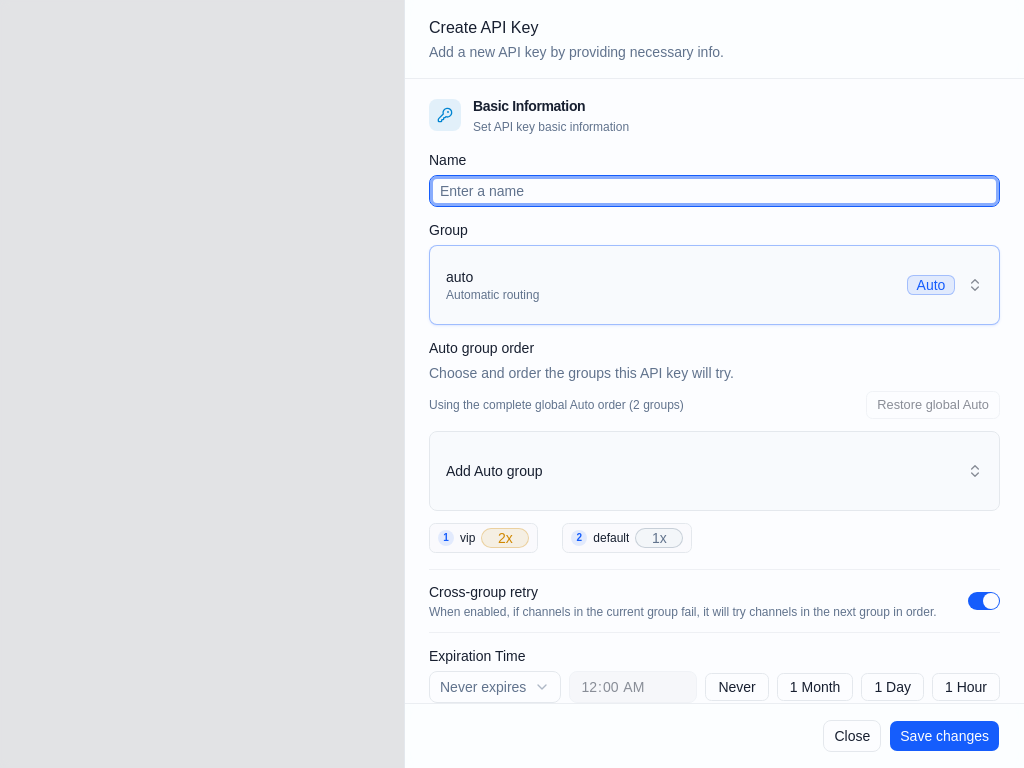
Scenario: API keys mutate drawer Auto group integration › inherits the root Auto order and sends an empty override for every batch-created key
Check: the button "Save changes" is enabled, box [889,720,1000,752]
Check: the button "Restore global Auto" is disabled, box [866,391,1000,419]
Type "batch" into the field labelled "Name" at (714, 191), box [429,175,1000,207]
(page scrolled)
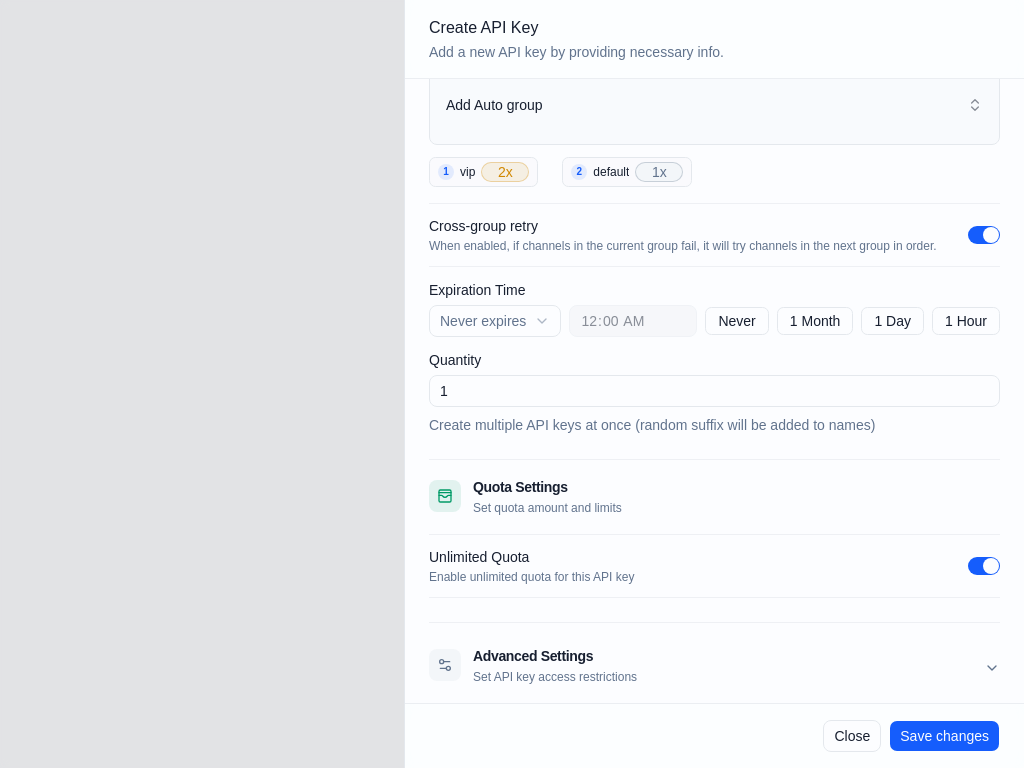
Replace the text in the number field labelled "Quantity" with "2" at (714, 391), box [429,375,1000,407]
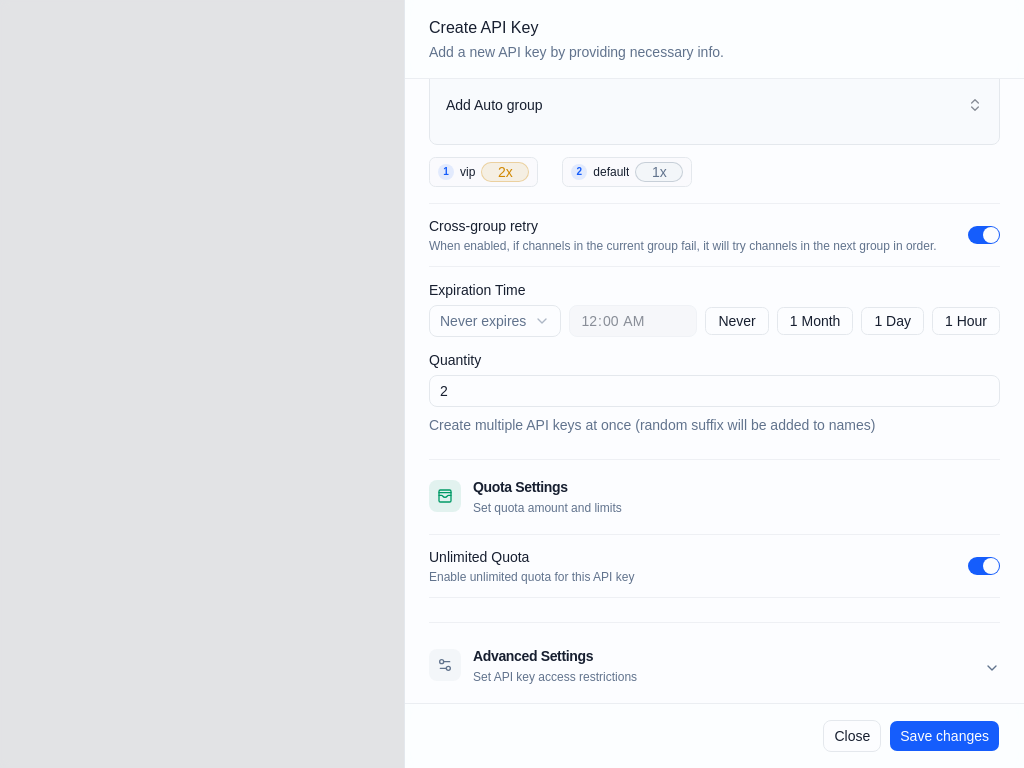
Click the button "Save changes" at (945, 736), box [889,720,1000,752]
(page scrolled)
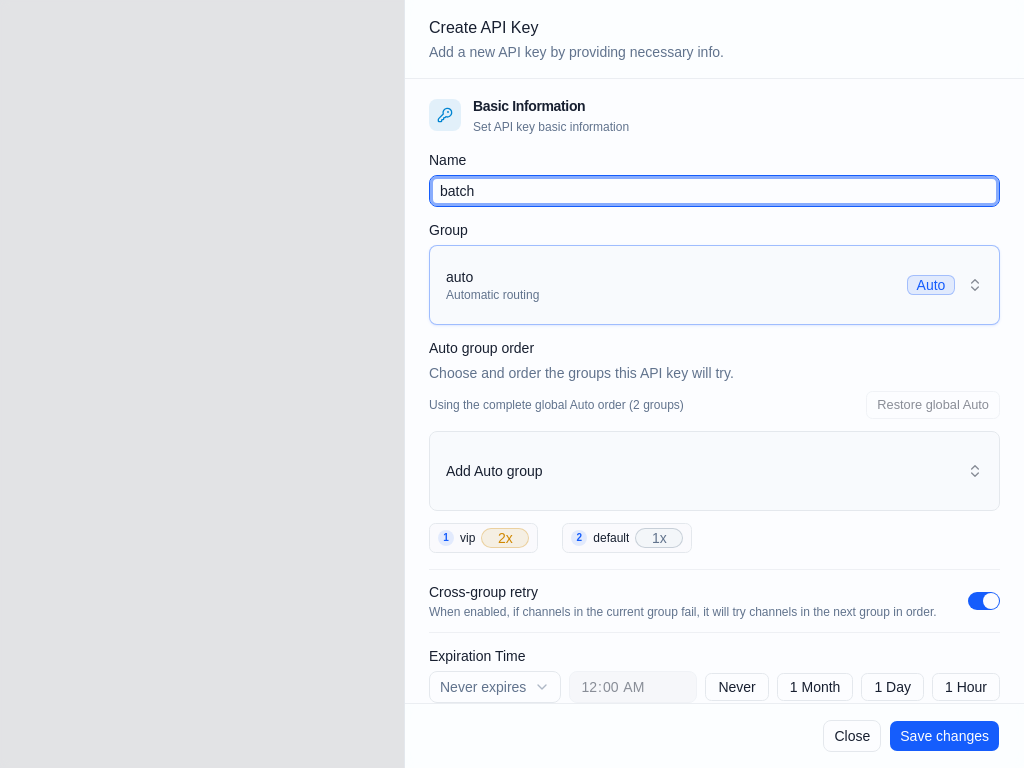
Check: the text "auto" is shown, box [446,269,473,285]
